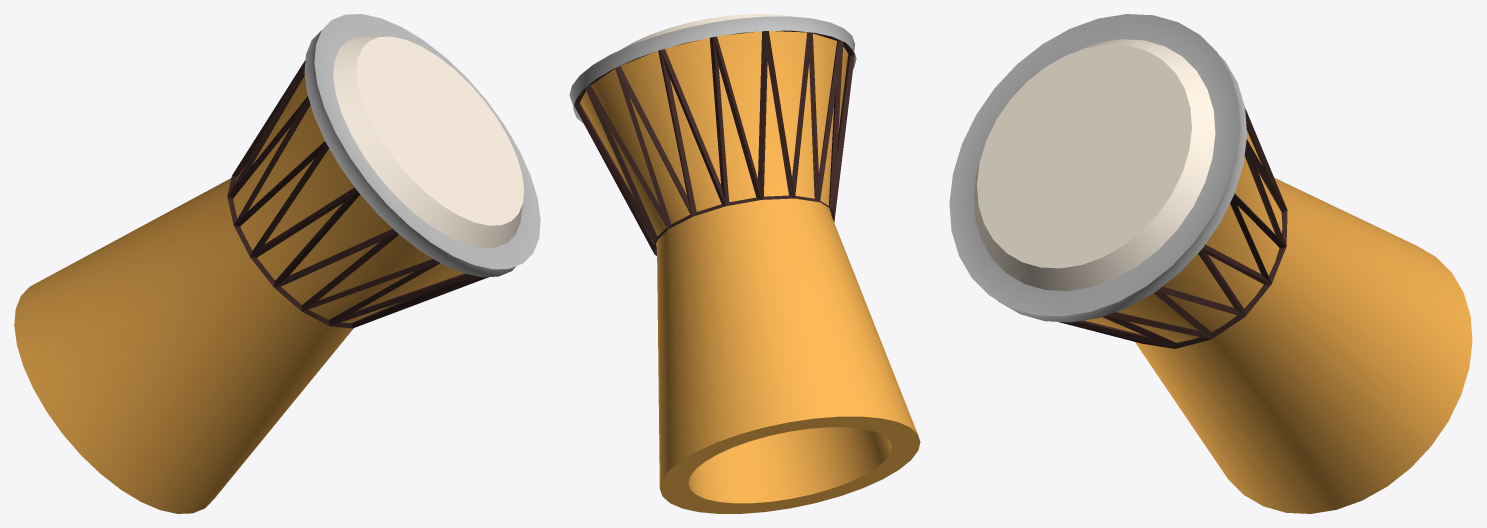
File: long_drum.gltf
3 views of the same model, side by side, from view 1: azimuth 30°, elevation 25°; view 2: azimuth 150°, elevation 25°; view 3: azimuth 270°, elevation 25° (orthographic). The views are drawn at different scales.
Parts seen in each view (by area): view 1: Cylinder.496; view 2: Cylinder.496; view 3: Cylinder.496.
Boxes of the visible parts, left/top/right/bottom form: Cylinder.496: left=14, top=14, right=540, bottom=513; Cylinder.496: left=569, top=14, right=920, bottom=513; Cylinder.496: left=949, top=14, right=1472, bottom=513.
Size of the model in its own units: 2.11 by 2.32 by 2.11.
1 material, 1 textured.
